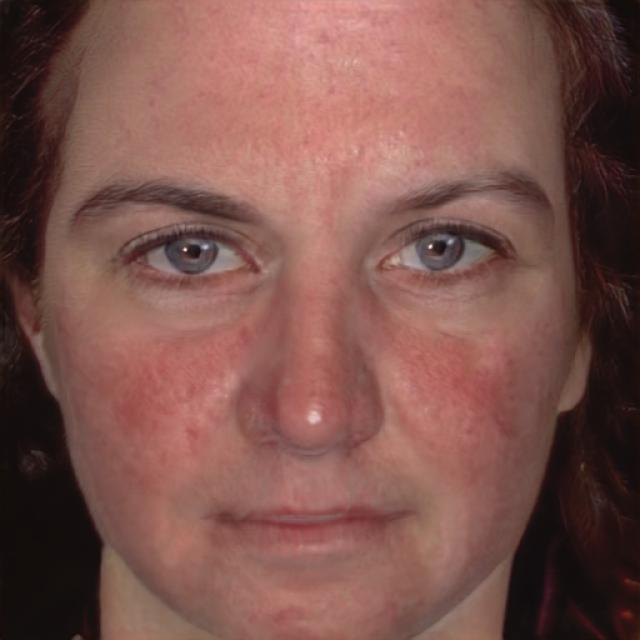Rosacea: (84, 310, 254, 488), (368, 296, 520, 462)
